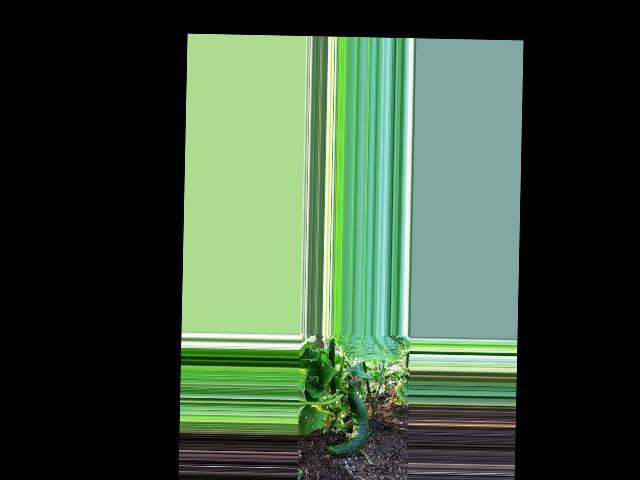cucumber: (327, 391, 369, 457)
